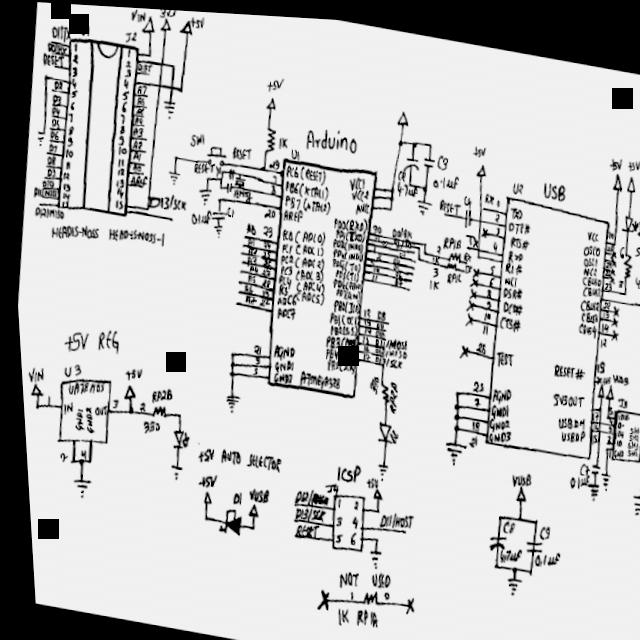capacitor: (400, 150, 418, 171), (482, 527, 500, 545), (519, 533, 536, 548), (208, 207, 224, 220), (420, 150, 432, 165), (461, 203, 469, 222), (585, 456, 595, 469), (226, 164, 233, 179), (223, 179, 231, 192)
crossover: (168, 82, 174, 91), (157, 58, 163, 66), (475, 212, 481, 220), (592, 412, 597, 419), (592, 421, 597, 428), (474, 242, 478, 247)
diode: (212, 504, 236, 534), (370, 416, 394, 443), (167, 426, 185, 450), (618, 206, 637, 227), (634, 212, 640, 232)
ground: (439, 434, 462, 462), (66, 476, 85, 498), (160, 94, 176, 119), (218, 390, 235, 412), (625, 486, 640, 510), (413, 193, 430, 212), (195, 184, 210, 205), (498, 571, 514, 590), (580, 475, 594, 496), (362, 545, 375, 566), (164, 168, 180, 185), (394, 104, 409, 122), (593, 464, 605, 485), (371, 458, 383, 479), (164, 461, 177, 480), (35, 129, 45, 147), (210, 221, 220, 237)
junction: (385, 182, 393, 192), (448, 396, 456, 405), (201, 172, 209, 181), (395, 133, 402, 142), (409, 134, 416, 143), (122, 404, 129, 413), (420, 179, 426, 189), (385, 190, 392, 198), (224, 368, 231, 376), (213, 193, 220, 201), (448, 408, 455, 416), (505, 560, 511, 569), (486, 557, 493, 564), (64, 457, 71, 464), (196, 512, 202, 520), (29, 402, 35, 410), (426, 135, 432, 143), (385, 200, 391, 208), (244, 521, 250, 529), (73, 457, 79, 465), (225, 358, 231, 366), (448, 419, 454, 427), (169, 59, 174, 68), (511, 509, 517, 516), (171, 410, 177, 417), (146, 49, 152, 56), (259, 162, 265, 169), (171, 151, 176, 159), (156, 80, 161, 88), (636, 292, 640, 301), (81, 458, 87, 464), (521, 562, 526, 569), (345, 388, 350, 395), (371, 164, 376, 171), (491, 507, 496, 514), (450, 384, 455, 391), (527, 512, 532, 519), (369, 503, 374, 510), (368, 532, 373, 539), (43, 74, 48, 81), (177, 85, 182, 91), (376, 358, 381, 364), (473, 248, 477, 255), (226, 349, 230, 355), (218, 167, 222, 173), (420, 237, 424, 242), (414, 252, 418, 257), (406, 177, 410, 182), (217, 174, 221, 179), (217, 182, 220, 188), (420, 246, 424, 250), (415, 241, 418, 246)
resistor: (262, 122, 275, 152), (354, 585, 372, 604), (619, 245, 630, 272), (146, 402, 162, 418), (375, 379, 386, 400), (445, 245, 458, 258), (442, 256, 454, 266), (636, 249, 640, 269)
source: (138, 13, 156, 34), (179, 14, 192, 34), (157, 14, 172, 31), (118, 383, 132, 401), (25, 382, 39, 398), (509, 479, 521, 497), (473, 157, 485, 173), (264, 93, 276, 109), (241, 501, 253, 516), (600, 377, 610, 394), (592, 376, 601, 393), (197, 488, 206, 503), (367, 484, 377, 496)
switch: (204, 142, 225, 165)
terminal: (308, 584, 322, 608), (396, 590, 407, 612)
text: (47, 212, 162, 257), (191, 440, 276, 475), (59, 320, 116, 360), (303, 121, 356, 155), (330, 561, 384, 592), (274, 280, 321, 303), (279, 157, 324, 181), (281, 174, 326, 197), (293, 365, 337, 388), (276, 247, 322, 269), (276, 259, 320, 282), (274, 271, 322, 292), (278, 221, 322, 243), (278, 236, 321, 257), (147, 190, 184, 212), (605, 146, 640, 168), (330, 209, 365, 231), (546, 382, 579, 404), (290, 193, 328, 212), (372, 505, 408, 525), (288, 482, 324, 502), (321, 327, 353, 349), (548, 354, 580, 375), (320, 340, 352, 360), (527, 541, 554, 564), (551, 406, 581, 426), (326, 316, 354, 337), (329, 243, 361, 261), (539, 173, 564, 196), (331, 458, 356, 481), (325, 306, 355, 325), (370, 330, 403, 347), (268, 338, 291, 362), (322, 352, 351, 371), (329, 232, 361, 249), (430, 167, 457, 187), (329, 271, 359, 289), (287, 503, 320, 519), (329, 253, 358, 271), (32, 205, 62, 222), (63, 381, 99, 395), (555, 420, 580, 440), (332, 224, 363, 240), (370, 342, 403, 357), (50, 21, 72, 42), (329, 295, 356, 312), (486, 379, 508, 399), (491, 539, 514, 558), (188, 205, 209, 225), (370, 351, 398, 366), (505, 212, 528, 230), (332, 283, 357, 299), (191, 469, 212, 488), (504, 464, 526, 482), (146, 384, 168, 402), (394, 176, 416, 194), (494, 309, 517, 326), (497, 293, 520, 310), (436, 193, 459, 210), (21, 364, 40, 384), (346, 170, 365, 190), (243, 483, 264, 501), (288, 518, 313, 533), (228, 141, 250, 158), (279, 204, 301, 221), (563, 466, 585, 483), (388, 220, 411, 236), (78, 405, 91, 433), (485, 396, 504, 415), (264, 72, 284, 90), (273, 287, 293, 305), (332, 264, 356, 279), (498, 278, 519, 295), (505, 228, 527, 244), (383, 377, 394, 409), (438, 229, 460, 245), (119, 363, 139, 380), (576, 291, 596, 308), (484, 411, 505, 427), (269, 355, 290, 371), (482, 424, 506, 438), (59, 360, 78, 377), (574, 316, 593, 333), (190, 160, 213, 174), (30, 185, 54, 198), (42, 52, 64, 66), (137, 417, 155, 434), (273, 302, 292, 318), (348, 182, 367, 198), (501, 255, 519, 271), (606, 364, 625, 379), (580, 235, 599, 250), (578, 278, 597, 293), (127, 172, 146, 187), (231, 185, 251, 199), (329, 603, 343, 623), (578, 268, 598, 282), (188, 130, 204, 147), (493, 344, 508, 362), (281, 191, 300, 205), (69, 407, 80, 431), (348, 602, 361, 622), (504, 243, 520, 259), (577, 303, 594, 318), (268, 368, 289, 380), (434, 148, 447, 167), (122, 27, 137, 43), (352, 197, 368, 212), (131, 7, 146, 23), (46, 41, 66, 53), (579, 248, 596, 262), (391, 232, 410, 244), (260, 204, 275, 219), (189, 12, 204, 27), (470, 138, 485, 153), (462, 228, 477, 243), (507, 199, 521, 215), (443, 266, 460, 279), (365, 371, 375, 391), (361, 607, 372, 625), (495, 514, 509, 528), (500, 268, 514, 282), (509, 174, 522, 189), (532, 518, 544, 534), (318, 478, 334, 490), (583, 222, 596, 236), (468, 373, 480, 388), (573, 456, 585, 471), (78, 21, 90, 36), (259, 221, 271, 236), (275, 132, 287, 147), (159, 7, 176, 17), (580, 259, 594, 271), (58, 399, 68, 415), (89, 403, 102, 415), (242, 219, 254, 232), (266, 155, 279, 167), (137, 61, 151, 72), (226, 489, 236, 504), (460, 189, 470, 204), (591, 353, 601, 368), (360, 473, 373, 484), (426, 274, 437, 287), (471, 336, 482, 349), (621, 433, 634, 444), (462, 430, 473, 442), (612, 389, 623, 401), (241, 291, 253, 302), (131, 124, 142, 136), (482, 187, 492, 200), (39, 177, 52, 187), (459, 245, 469, 258), (596, 367, 606, 380), (53, 450, 63, 463), (289, 144, 299, 157), (344, 512, 353, 526), (50, 92, 61, 103), (623, 425, 634, 436), (255, 294, 266, 305), (598, 292, 608, 304), (613, 405, 625, 415), (390, 273, 400, 285), (113, 176, 123, 188), (119, 88, 129, 100), (62, 147, 72, 159), (395, 164, 404, 177), (597, 315, 606, 328), (115, 133, 124, 146), (615, 238, 623, 252), (44, 154, 54, 165), (44, 166, 54, 177), (621, 441, 632, 451), (258, 246, 268, 257), (130, 138, 141, 148), (477, 318, 486, 330), (328, 529, 337, 541), (373, 305, 382, 317), (391, 264, 400, 276), (112, 197, 121, 209), (428, 261, 436, 274), (631, 237, 639, 250), (267, 181, 275, 194), (64, 135, 72, 148), (48, 129, 58, 139), (46, 142, 56, 152), (371, 325, 381, 335), (608, 441, 618, 451), (624, 418, 634, 428), (603, 236, 613, 246), (369, 220, 379, 230), (258, 275, 268, 285), (259, 256, 269, 266), (130, 150, 140, 160), (600, 274, 609, 285), (249, 341, 258, 352), (466, 414, 475, 425), (377, 234, 386, 245), (135, 83, 146, 92), (134, 95, 145, 104), (114, 156, 123, 167), (116, 144, 125, 155), (122, 66, 131, 77), (343, 528, 350, 542), (489, 234, 497, 246), (485, 259, 493, 271), (598, 302, 606, 314), (224, 203, 232, 215), (587, 403, 595, 415), (585, 427, 593, 439), (114, 187, 122, 199), (329, 512, 336, 525), (631, 269, 638, 282), (120, 99, 127, 112), (468, 391, 477, 401), (52, 79, 61, 89), (50, 105, 59, 115), (49, 117, 58, 127), (394, 245, 403, 255), (240, 281, 250, 290), (59, 191, 68, 201), (461, 258, 469, 269), (359, 303, 367, 314), (602, 253, 610, 264), (257, 266, 268, 274), (115, 166, 123, 177), (69, 88, 77, 99), (60, 182, 68, 193), (70, 65, 77, 77), (596, 330, 603, 342), (65, 111, 72, 123), (66, 124, 73, 136), (122, 77, 129, 89), (428, 250, 437, 259), (601, 262, 610, 271), (123, 58, 132, 67), (480, 306, 488, 316), (74, 448, 82, 458), (610, 431, 618, 441), (611, 422, 619, 432), (132, 115, 142, 123), (118, 111, 124, 124), (107, 396, 114, 407), (347, 496, 354, 507), (481, 294, 488, 305), (485, 271, 492, 282), (269, 171, 276, 182), (243, 253, 254, 260), (117, 123, 124, 134), (69, 78, 76, 89), (71, 53, 78, 64), (62, 159, 69, 170), (357, 348, 366, 356), (588, 414, 594, 426), (612, 414, 620, 423), (369, 261, 377, 270), (389, 252, 397, 261), (246, 262, 255, 270), (244, 271, 252, 280), (258, 285, 266, 294), (130, 163, 139, 171), (134, 400, 141, 410), (491, 206, 498, 216), (376, 587, 383, 597), (604, 223, 611, 233), (372, 247, 379, 257), (244, 245, 254, 252), (133, 106, 143, 113), (60, 171, 67, 181), (482, 283, 488, 294), (68, 100, 74, 111), (72, 41, 78, 52), (635, 152, 640, 165), (360, 323, 368, 331), (357, 330, 365, 338), (389, 259, 397, 267), (392, 240, 400, 248), (244, 235, 252, 243), (359, 315, 368, 322), (359, 340, 366, 349), (370, 229, 377, 238), (259, 238, 268, 245), (330, 493, 335, 505), (492, 220, 498, 230), (433, 239, 439, 249), (614, 271, 620, 281), (41, 393, 47, 403), (342, 586, 347, 598), (603, 399, 609, 409), (634, 446, 640, 456), (247, 364, 254, 372), (372, 318, 380, 325), (367, 269, 375, 276), (59, 199, 67, 206), (602, 442, 607, 453), (369, 240, 374, 250), (126, 47, 131, 57), (602, 418, 608, 426), (494, 193, 499, 202), (601, 428, 606, 437), (603, 409, 608, 418), (250, 354, 256, 361), (366, 255, 372, 262), (636, 433, 640, 441), (637, 426, 640, 434), (639, 411, 640, 424)
